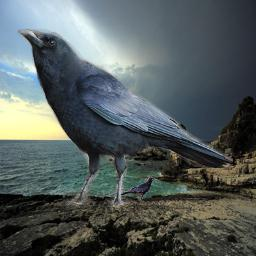Crow: (17, 29, 233, 211), (120, 177, 157, 203)
